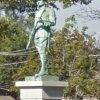Statue: (23, 1, 63, 78)
